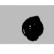correct: (18, 13, 47, 44)
